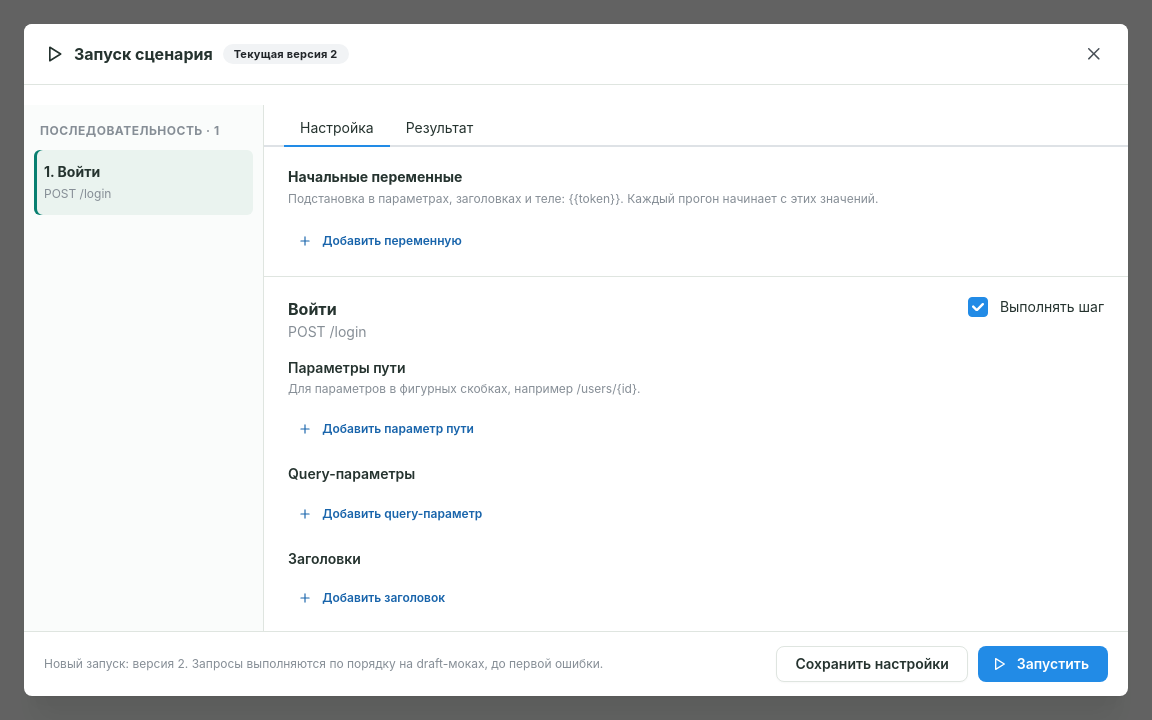
Scenario: ScenarioExecutionPanel › sends explicit cancellation when the page unmounts
Click the button "Запустить" at (1043, 664), box [978, 646, 1108, 682]
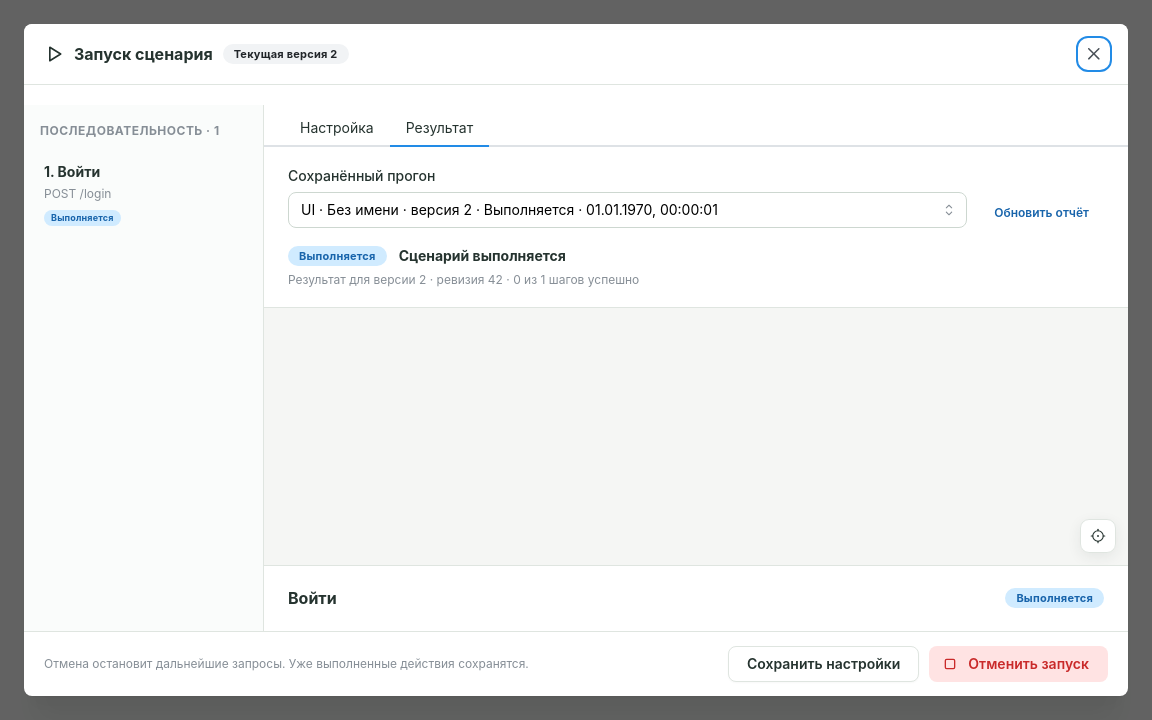
Expected: the button "Отменить запуск" is shown, [929, 646, 1108, 682]
